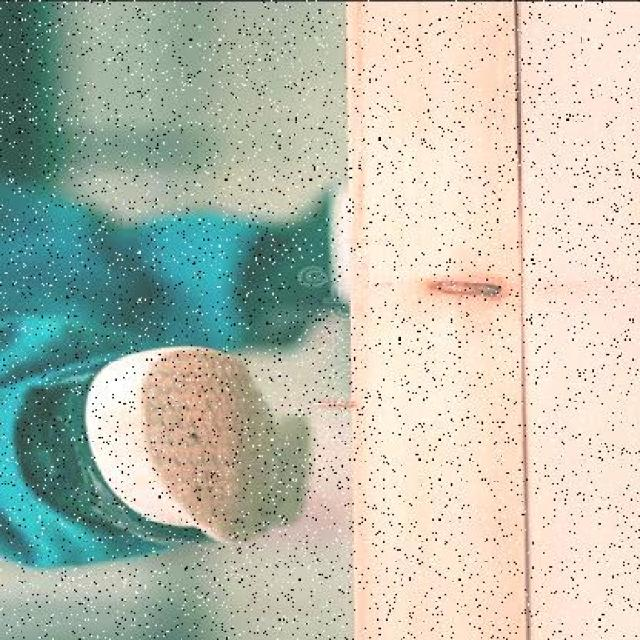shoes: (24, 362, 308, 548), (236, 185, 361, 346)
